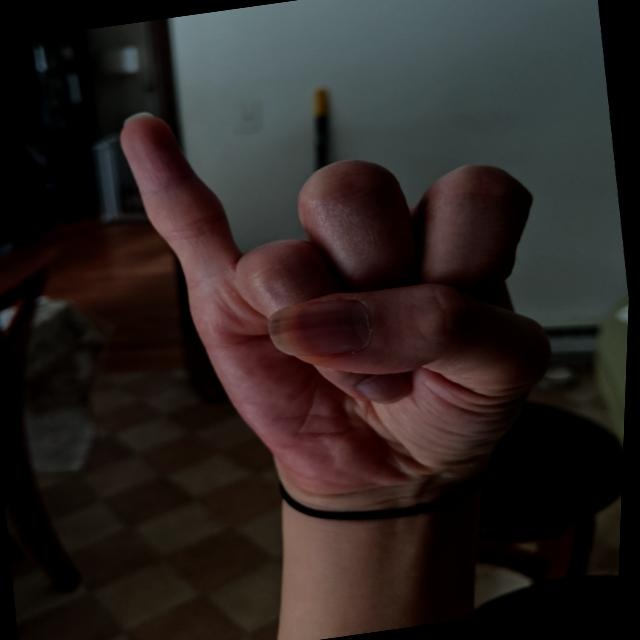I: (100, 53, 592, 531)
